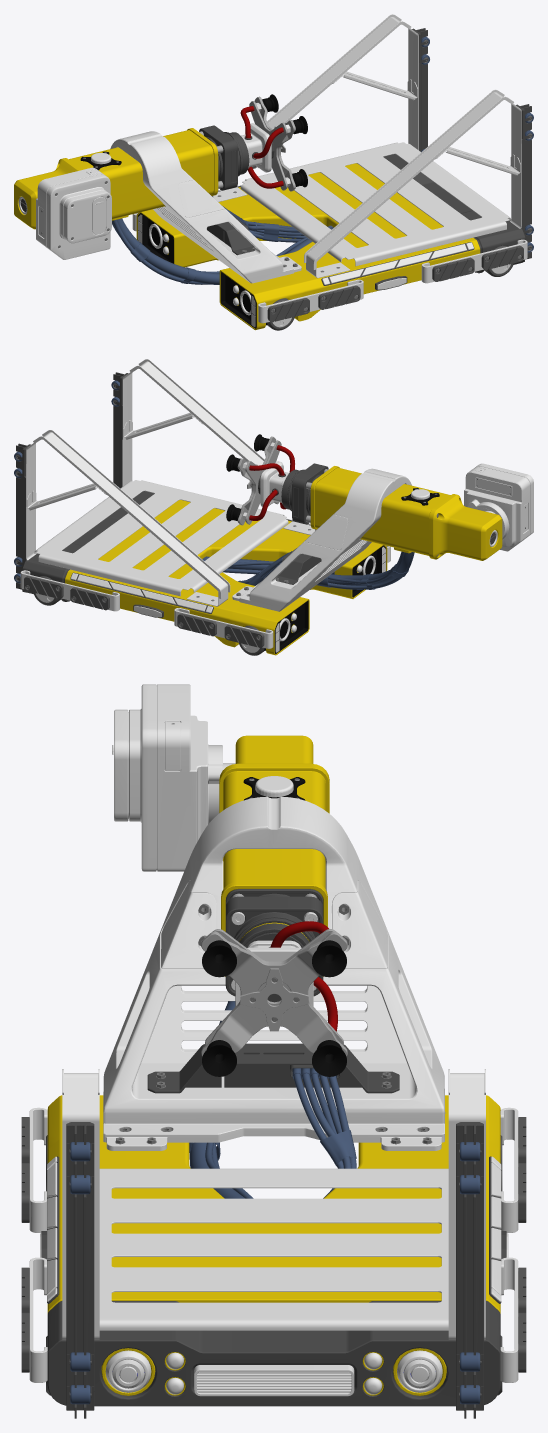
File: moto_bot_forassembly.fbx
3 renders of one model, top to bottom at view 1: azimuth 30°, elevation 25°; view 2: azimuth 150°, elevation 25°; view 3: azimuth 270°, elevation 25°, orthographic. The views are drawn at different scales.
Parts seen in each view (by area): view 1: load_paltform_01, body_main, shaft_support_01, arm_chassis, glider_support_01, motor, glider_support_02, bumper_rubber_01, cables, body_front, backPlate, bumper_frame_01 (+11 smaller); view 2: load_paltform_01, arm_chassis, body_main, shaft_support_01, glider_support_02, glider_support_01, motor, bumper_rubber_01, cables, body_front, backPlate, bumper_frame_01 (+11 smaller); view 3: shaft_support_01, load_paltform_01, body_front, body_main, motor, arm_chassis, grap_platfrom_01, shelf_Gliders_wheels_Chassis_01, shelf_Gliders_wheels_Chassis_02, cable_housing, bumper_frame_01, front_fins_01 (+17 smaller).
Boxes of the visible parts, box(x1,y1,x2,y2) form: load_paltform_01: box(240, 142, 511, 266); body_main: box(136, 163, 480, 330); shaft_support_01: box(110, 131, 301, 283); arm_chassis: box(14, 128, 218, 229); glider_support_01: box(304, 89, 521, 278); motor: box(36, 167, 111, 259); glider_support_02: box(212, 14, 418, 201); bumper_rubber_01: box(218, 189, 523, 322); cables: box(112, 206, 333, 284); body_front: box(383, 154, 525, 273); backPlate: box(137, 213, 267, 328); bumper_frame_01: box(132, 213, 527, 323); load_paltform_01: box(34, 480, 288, 596); arm_chassis: box(310, 466, 502, 560); body_main: box(65, 500, 387, 655); shaft_support_01: box(232, 468, 411, 611); glider_support_02: box(26, 430, 230, 606); glider_support_01: box(122, 359, 316, 535); motor: box(464, 463, 533, 551); bumper_rubber_01: box(24, 523, 310, 647); cables: box(202, 551, 414, 589); body_front: box(22, 491, 154, 601); backPlate: box(264, 545, 386, 653); bumper_frame_01: box(20, 545, 390, 648); shaft_support_01: box(103, 796, 445, 1150); load_paltform_01: box(99, 1168, 448, 1330); body_front: box(47, 1301, 500, 1406); body_main: box(47, 1095, 500, 1313); motor: box(112, 684, 235, 871); arm_chassis: box(219, 735, 329, 976); grap_platfrom_01: box(201, 929, 347, 1056); shelf_Gliders_wheels_Chassis_01: box(66, 1122, 94, 1418); shelf_Gliders_wheels_Chassis_02: box(456, 1122, 483, 1418); cable_housing: box(147, 1043, 399, 1093); bumper_frame_01: box(29, 1107, 518, 1382); front_fins_01: box(194, 1365, 354, 1396).
Bounding box in the file's own units: 167 × 60.2 × 83.54.
